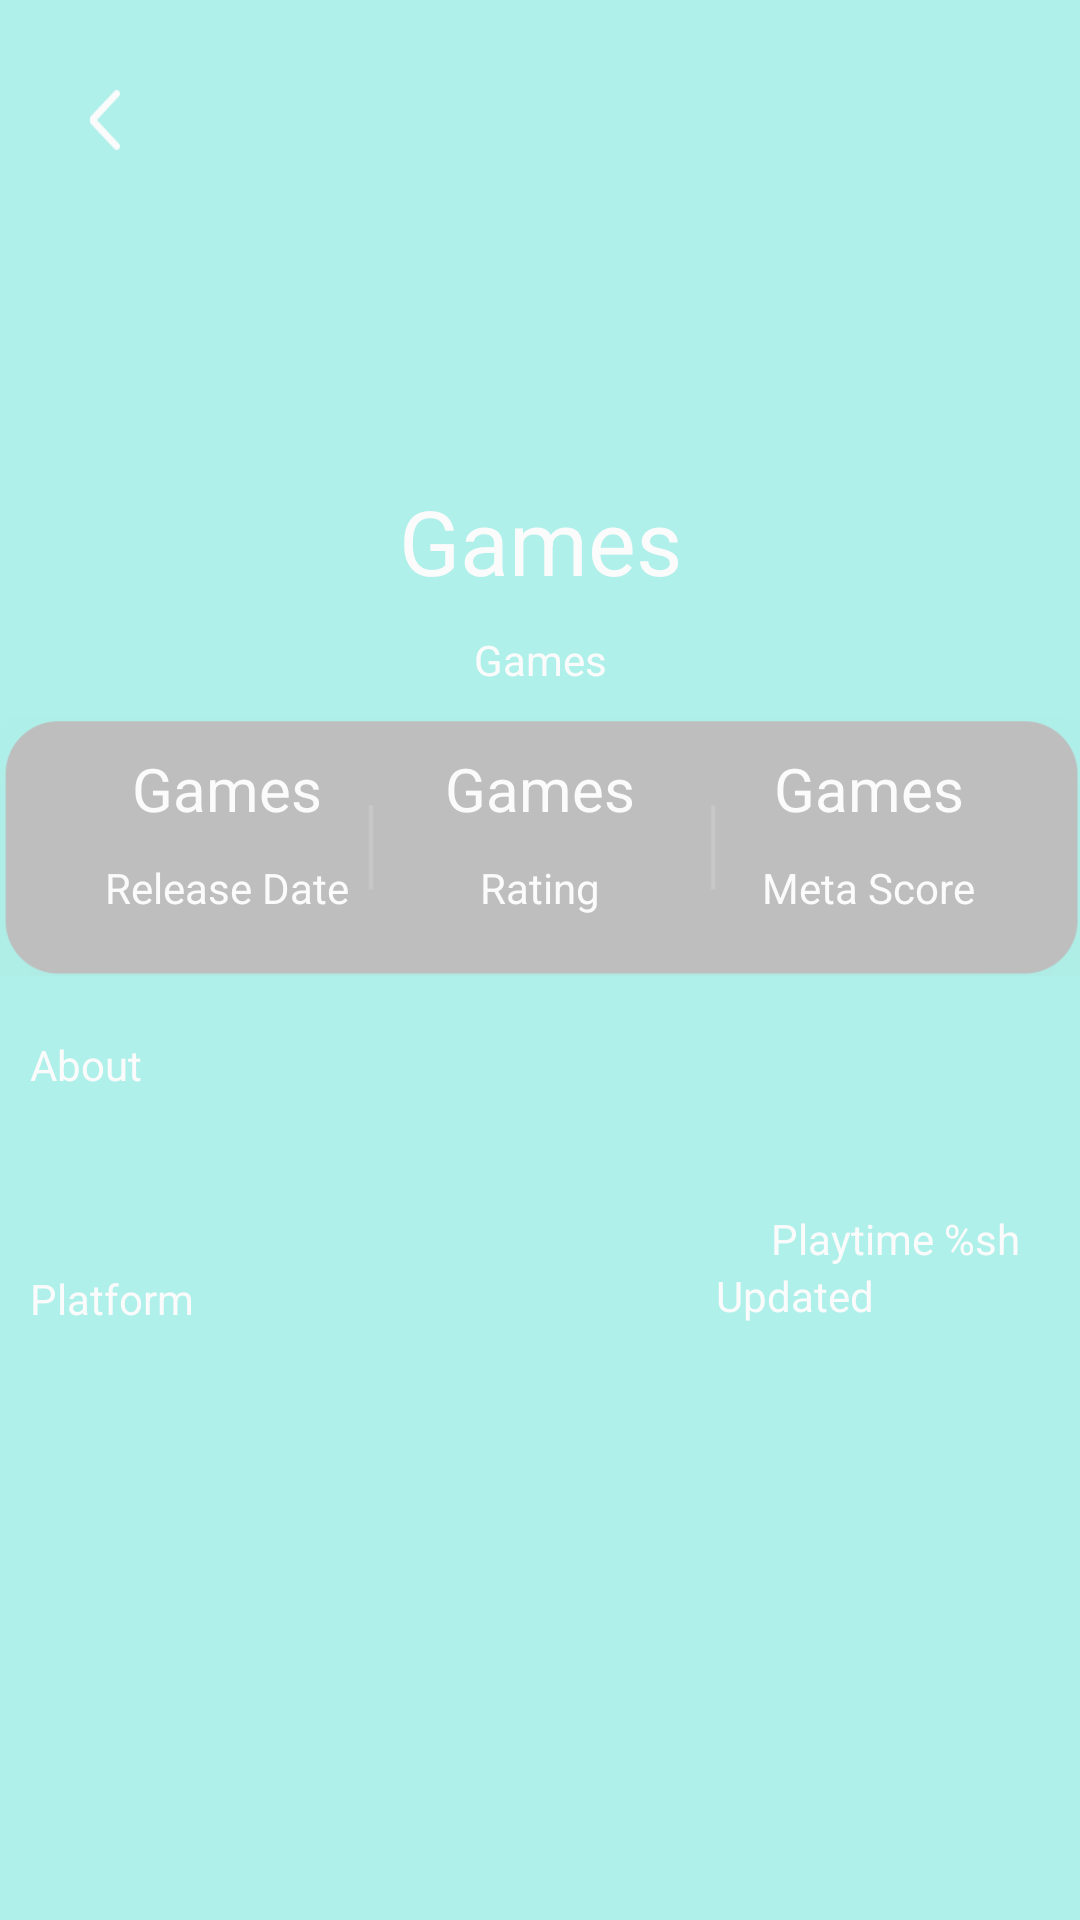

Screen size 1080w x 1920h. Icon name, then its box in pixels as (x1, y1, x2, y2):
back: (90, 90, 120, 150)
